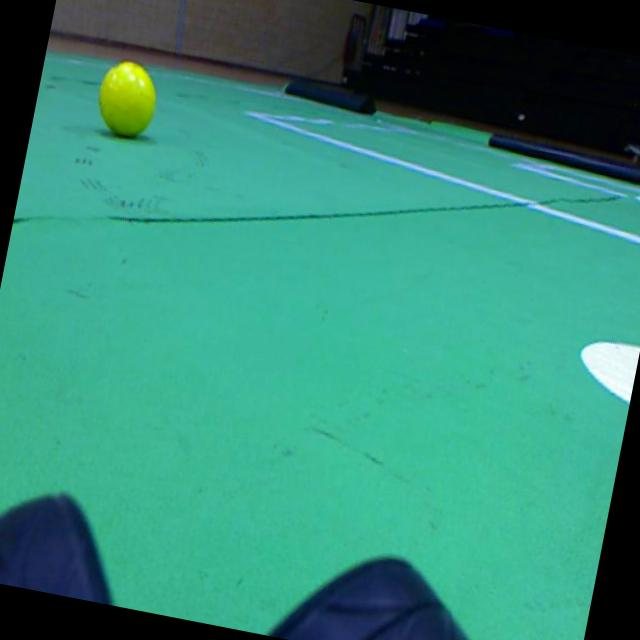ball: (99, 61, 155, 136)
